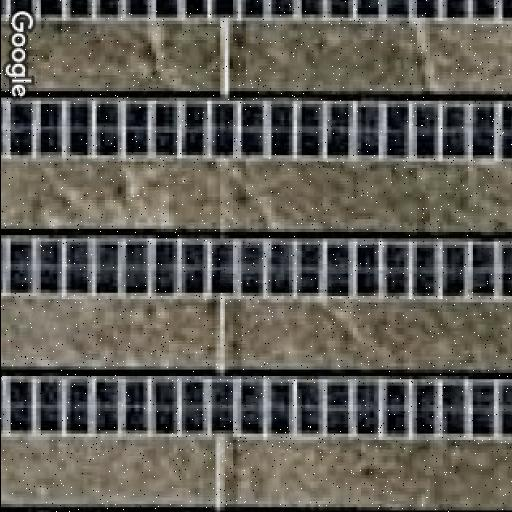solar-panel: (0, 235, 512, 301), (0, 376, 512, 438), (0, 100, 512, 162), (0, 0, 512, 22)
